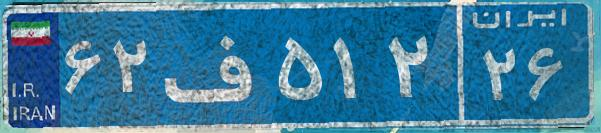1: (330, 28, 385, 110)
2: (385, 28, 445, 110), (475, 38, 525, 113), (110, 28, 158, 105)
5: (273, 28, 330, 110)
6: (57, 26, 110, 107), (525, 38, 570, 115)
ف: (158, 15, 273, 115)
